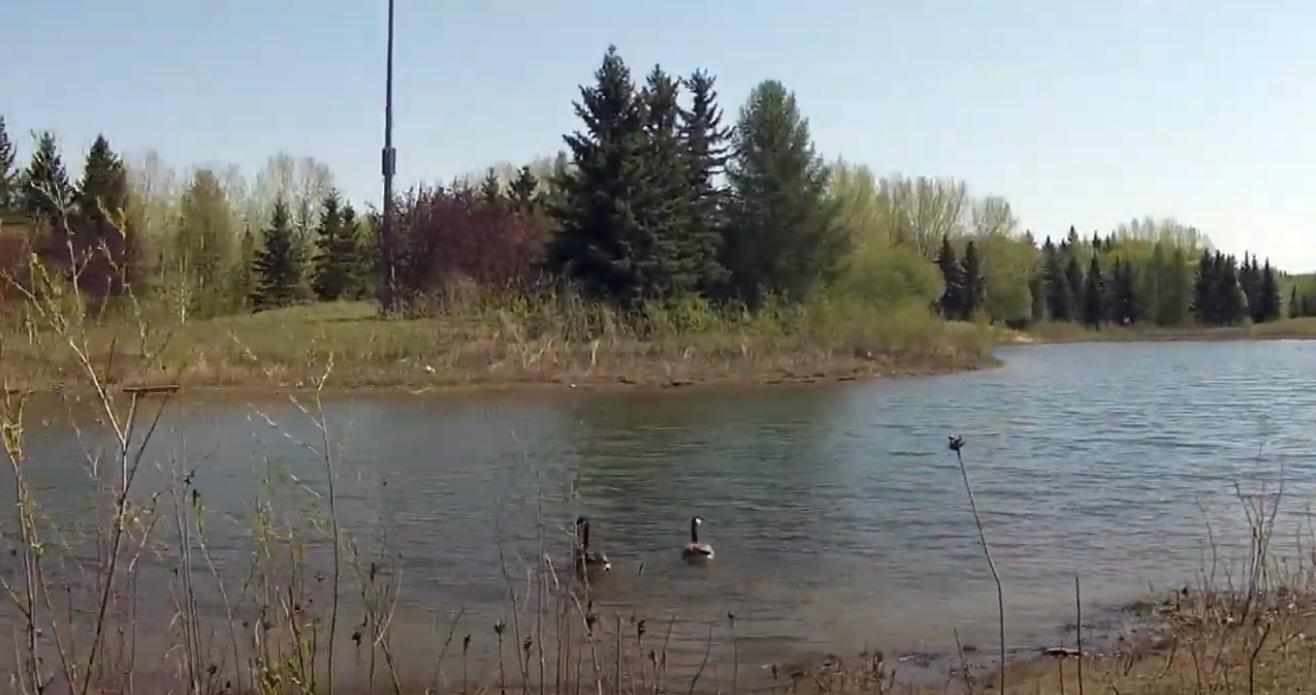goose: (564, 514, 611, 577), (677, 512, 718, 568)
